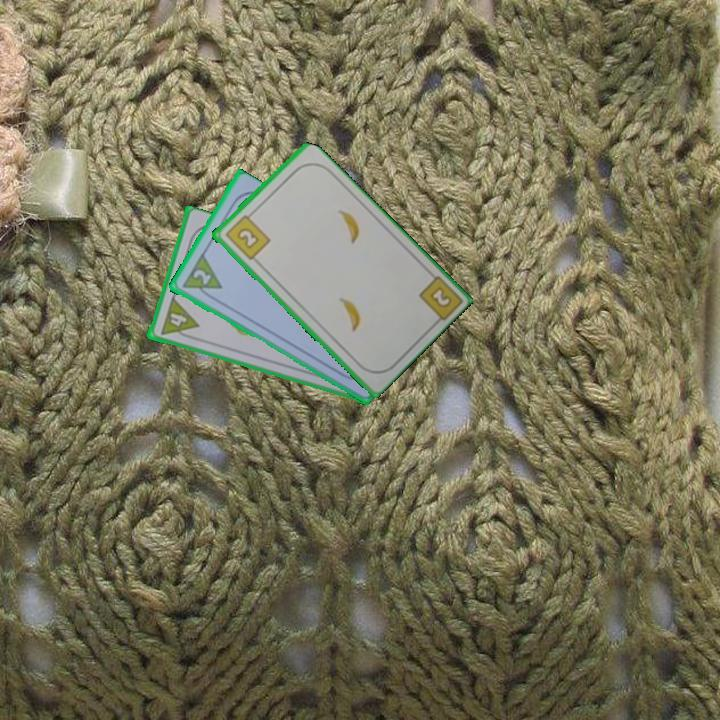2b: (221, 209, 273, 263), (426, 283, 454, 311)
2p: (189, 266, 214, 288)
4p: (164, 296, 200, 330)
